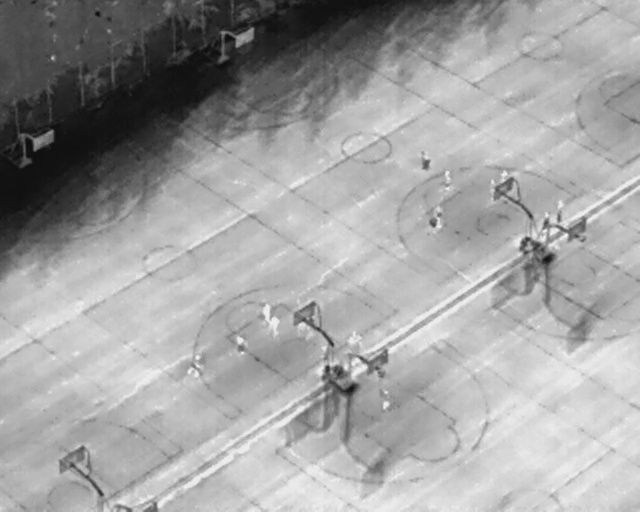Person: (261, 301, 271, 326), (420, 150, 431, 172), (270, 315, 280, 339), (443, 168, 453, 192), (192, 353, 201, 378), (381, 388, 390, 411), (435, 203, 443, 227), (236, 334, 245, 355), (556, 200, 563, 223), (430, 213, 438, 233), (488, 177, 495, 198)
